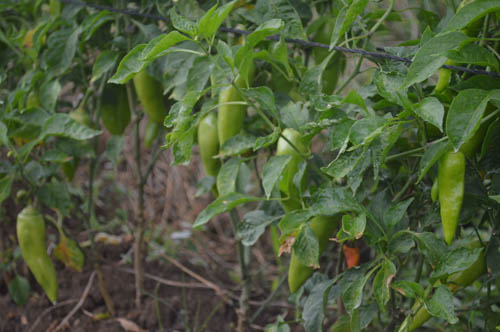ChiliPepper: (283, 210, 335, 295), (17, 215, 60, 305), (216, 64, 248, 152), (273, 131, 307, 208), (439, 151, 464, 243), (130, 59, 165, 121), (62, 110, 91, 181), (94, 79, 130, 133), (194, 114, 219, 170)
